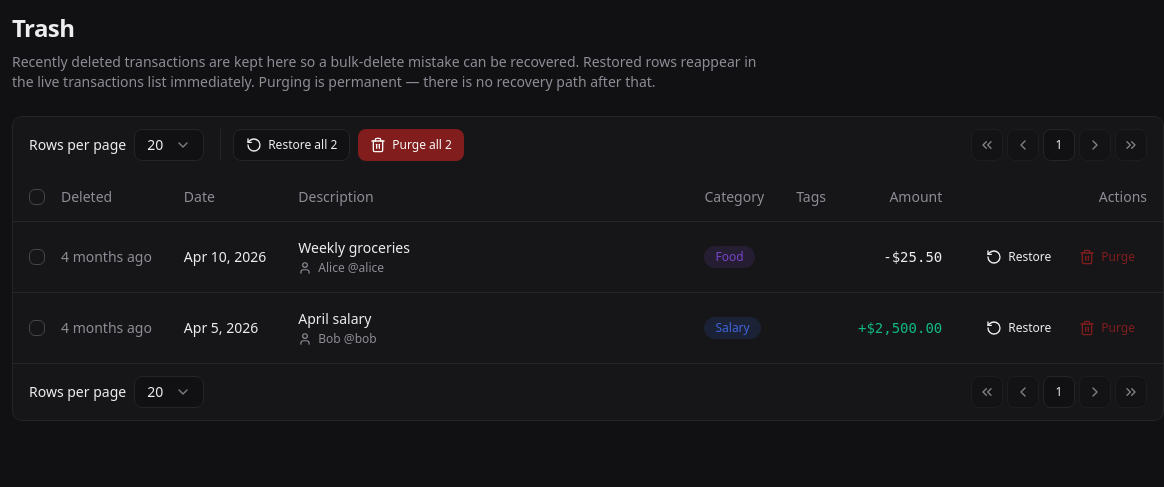
Test: Trash › as admin › clicking the select-all checkbox selects every row on the page
This screenshot has width=1164, height=487.
Expected: the text "Weekly groceries" is shown, [298,238,410,256]
Click the checkbox named "select all on this page" at (37,197), box [29,189,45,205]
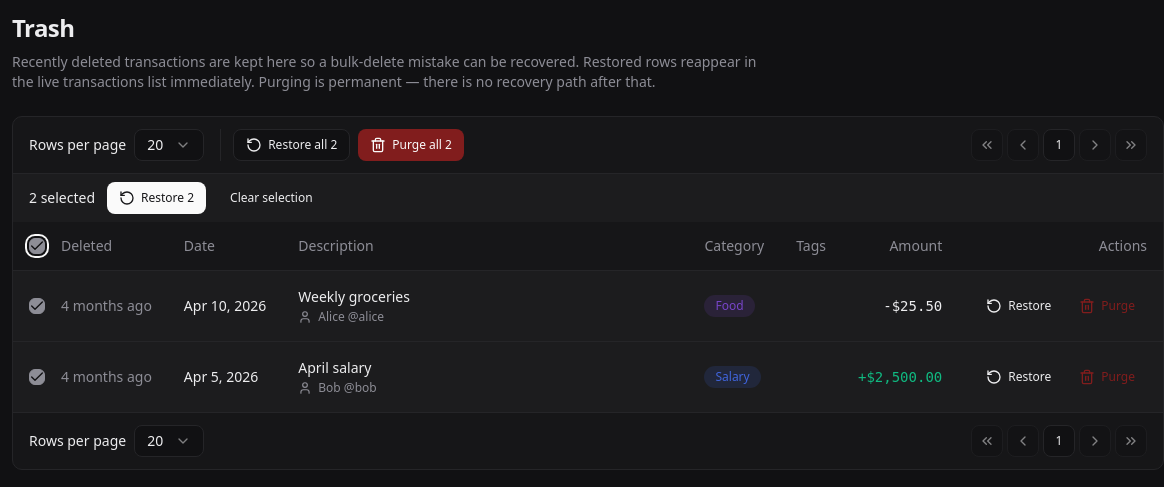
Now the text "2 selected" is shown, box [29,188,95,208]
